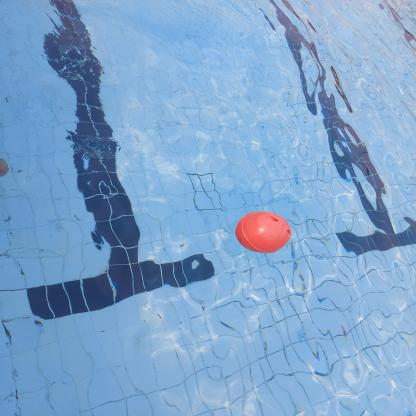red_buoy: (232, 208, 295, 255)
